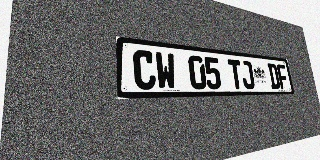0: (188, 55, 207, 89)
5: (204, 57, 222, 89)
C: (133, 49, 156, 90)
D: (267, 63, 281, 89)
F: (276, 64, 289, 89)
J: (240, 60, 255, 89)
T: (227, 59, 244, 89)
W: (155, 52, 177, 90)
